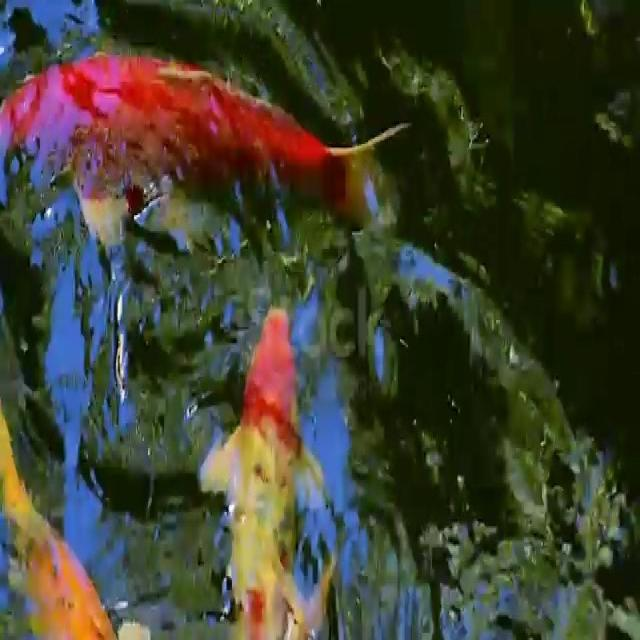fish: (0, 52, 412, 264), (200, 292, 333, 640), (0, 395, 133, 640)
